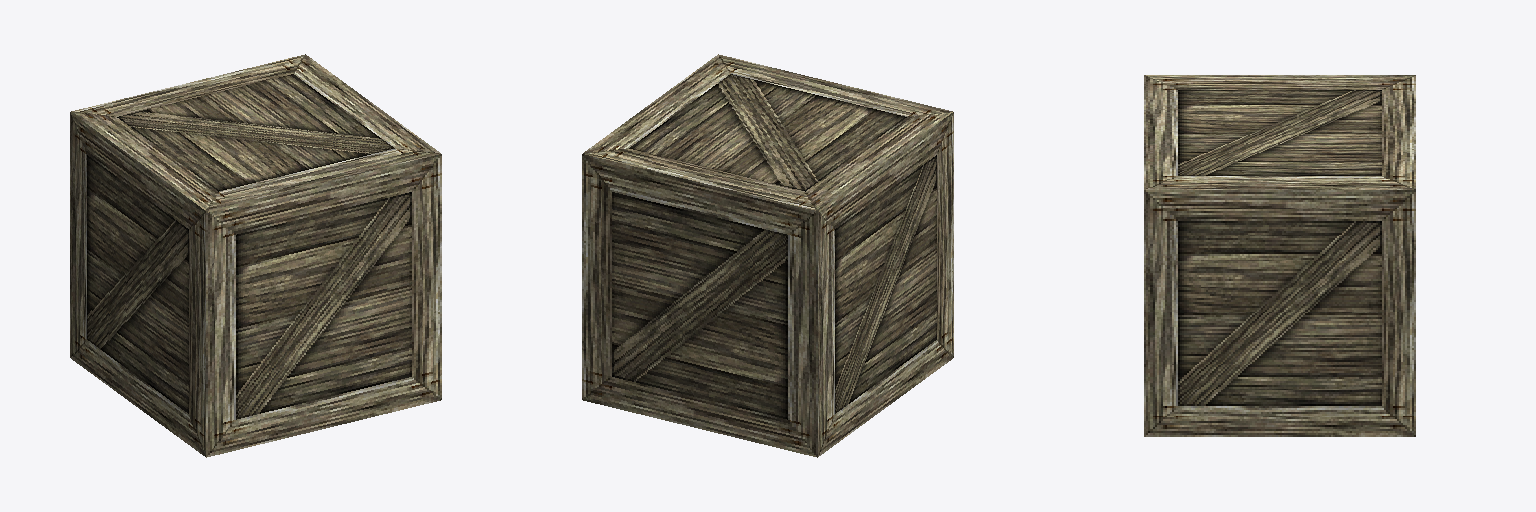
3 renders of one model, left to right at view 1: azimuth 30°, elevation 25°; view 2: azimuth 150°, elevation 25°; view 3: azimuth 270°, elevation 25°, orthographic.
Parts seen in each view (by area): view 1: Cube_Cube_Material; view 2: Cube_Cube_Material; view 3: Cube_Cube_Material.
Boxes of the visible parts, x1,y1,x2,y2 form: Cube_Cube_Material: [70, 54, 441, 457]; Cube_Cube_Material: [582, 54, 953, 457]; Cube_Cube_Material: [1144, 75, 1415, 436].
Bounding box in the file's own units: 1 × 1 × 1.
Materials: 1 (1 with a texture image).